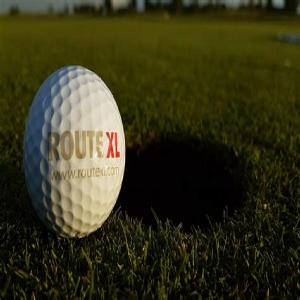Golf: (24, 62, 127, 241)
